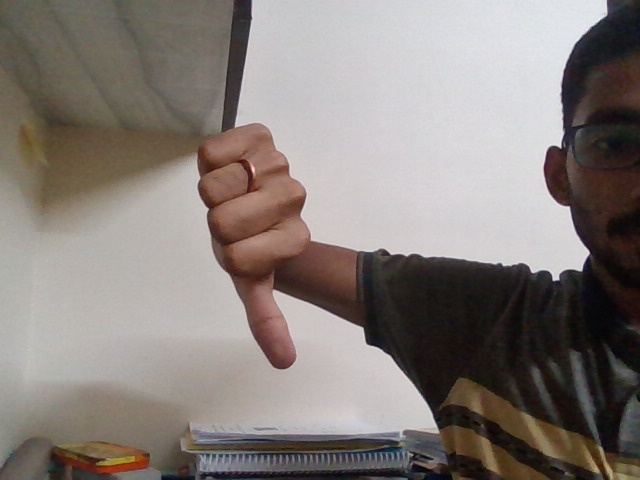No: (183, 104, 344, 393)
